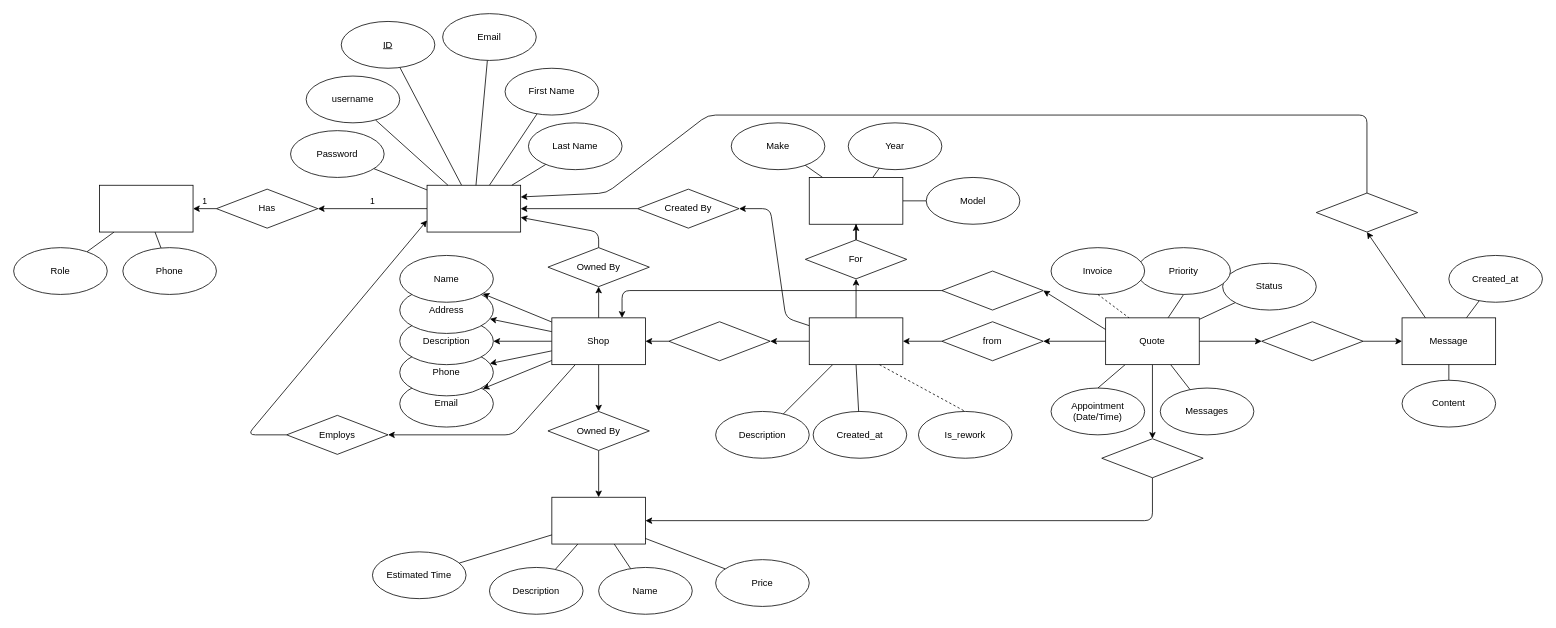
This 1556x628 diagram has some shape labels left out. Here are the shapes that lost their labels. From the top down, the centre of each, then its label:
pixel 146 208: Profile
pixel 473 208: User
pixel 855 200: Vehicle
pixel 1366 212: Authored by
pixel 992 290: responded by
pixel 719 341: requests
pixel 855 341: QuoteRequest
pixel 1312 341: Contains
pixel 1152 458: includes
pixel 598 520: ShopService
